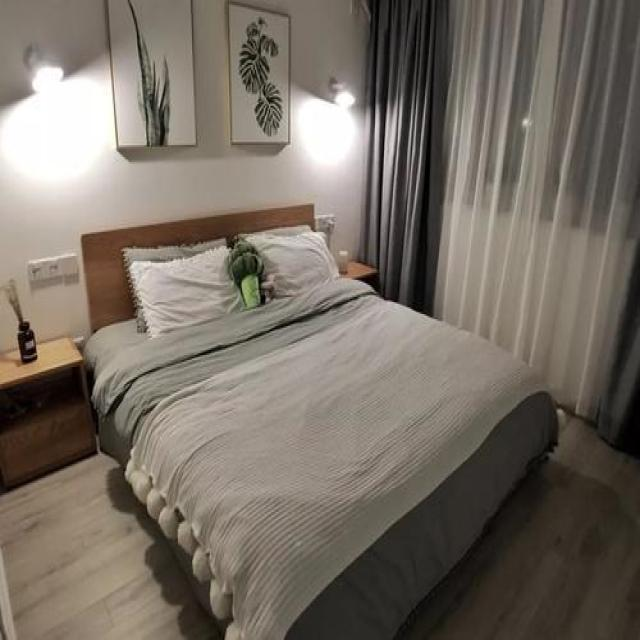other: (3, 64, 119, 179), (299, 96, 359, 169)
